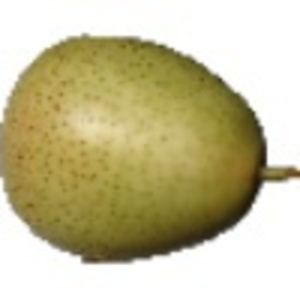pera: (1, 33, 300, 266)
